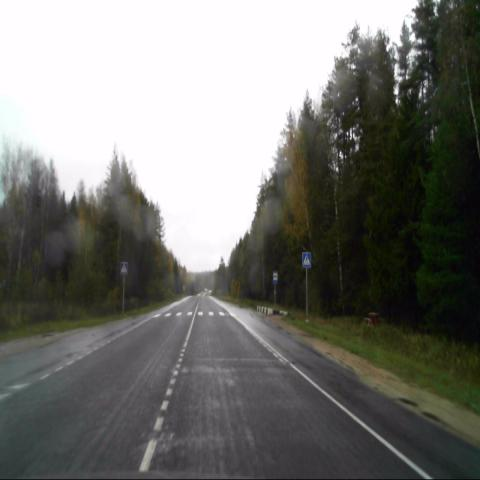5_19_1: (302, 252, 312, 269)
